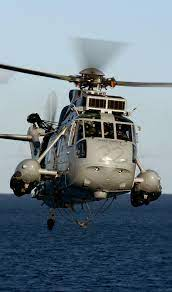Sea King: (1, 52, 164, 234)
